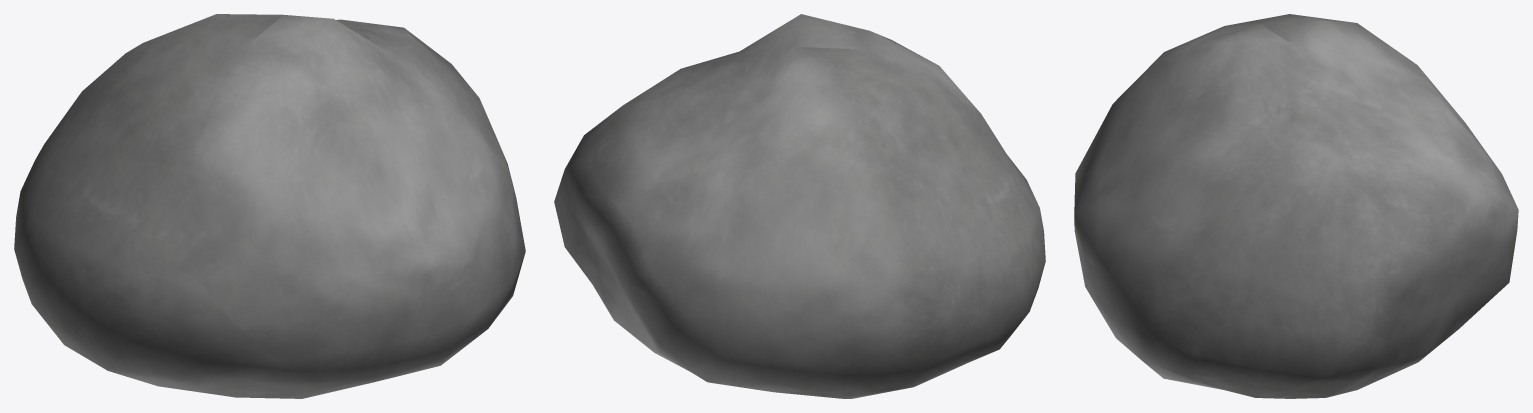
Rendered from Rock1.fbx.
3 views of the same model, side by side, from view 1: azimuth 30°, elevation 25°; view 2: azimuth 150°, elevation 25°; view 3: azimuth 270°, elevation 25° (orthographic). The views are drawn at different scales.
Parts seen in each view (by area): view 1: Rock1; view 2: Rock1; view 3: Rock1.
Part boxes in pixels (x1=…): Rock1: x1=14, y1=14, x2=525, y2=398; Rock1: x1=554, y1=14, x2=1045, y2=398; Rock1: x1=1074, y1=14, x2=1518, y2=398.
Bounding box in the file's own units: 203 × 145 × 179.
